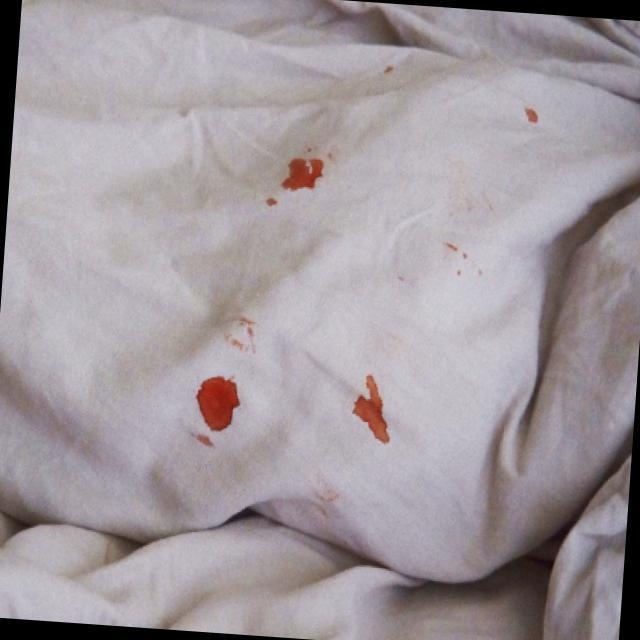blood: (348, 370, 395, 446), (194, 372, 244, 435), (279, 157, 328, 195)
